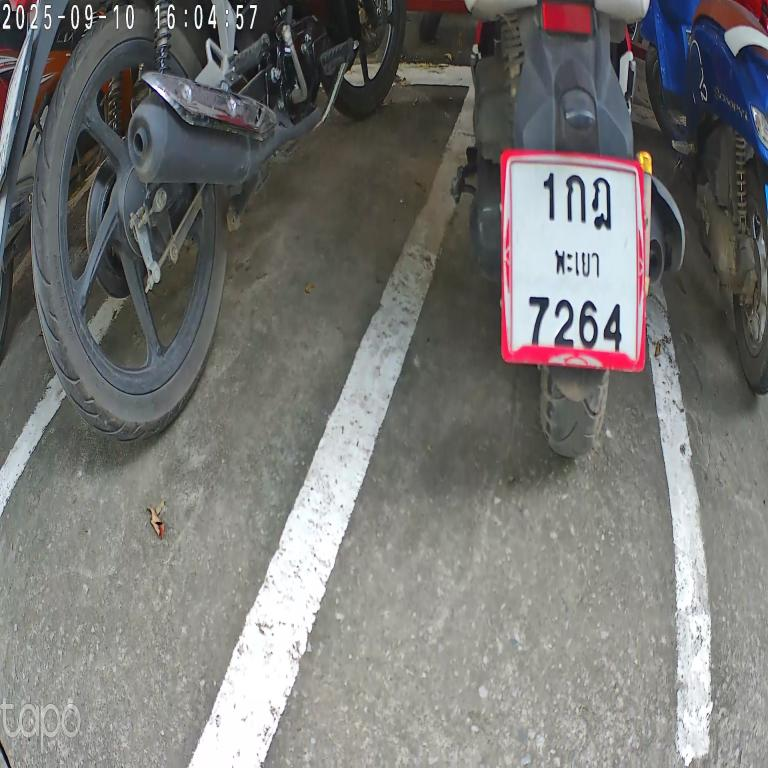license plate: (492, 125, 654, 385)
